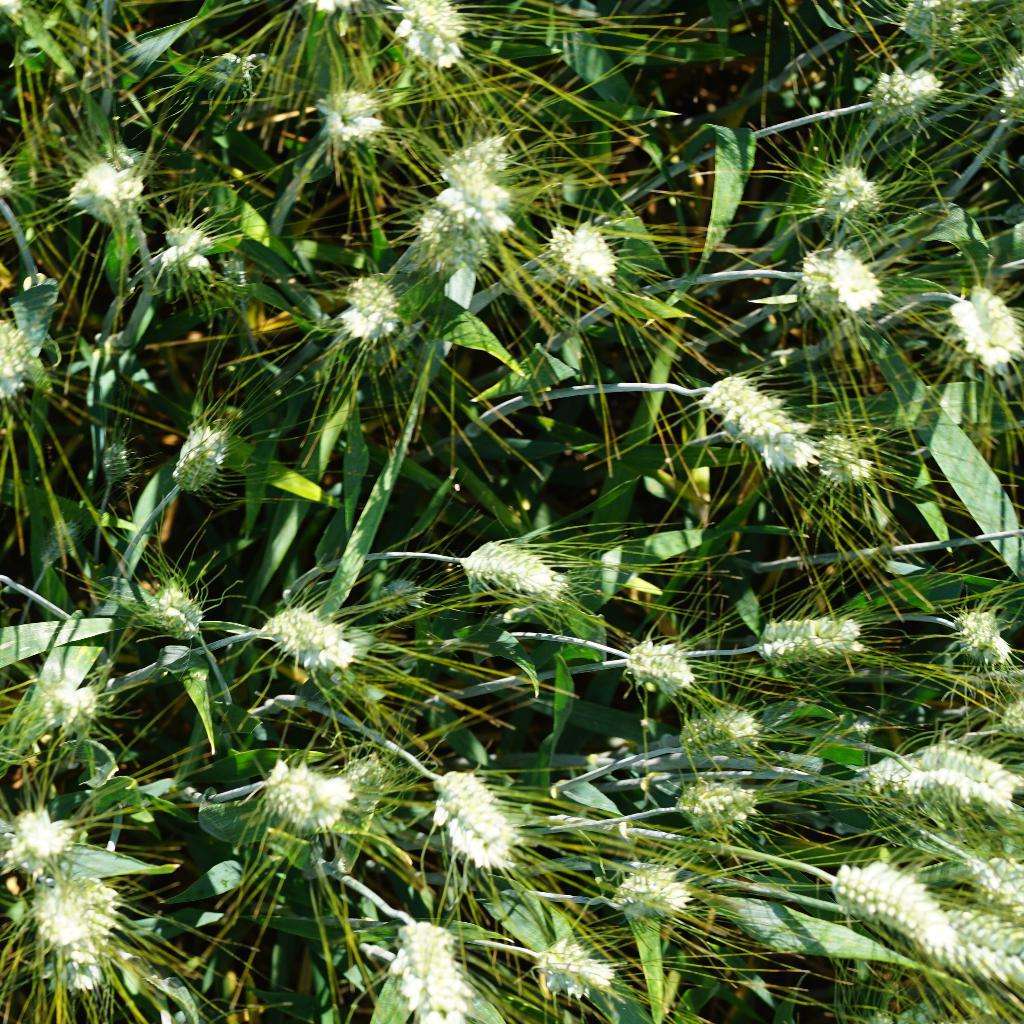0-0: (698, 354, 819, 482), (836, 859, 972, 970), (873, 720, 1021, 818), (38, 873, 130, 998), (430, 762, 529, 874), (387, 909, 478, 1024), (455, 529, 579, 610), (249, 752, 366, 834), (247, 597, 370, 671), (747, 606, 870, 677), (380, 0, 484, 82), (793, 236, 888, 322), (941, 273, 1023, 372), (126, 565, 216, 649), (421, 185, 520, 261), (949, 897, 1024, 996), (322, 745, 395, 846), (153, 210, 234, 298), (608, 856, 699, 926), (671, 776, 765, 843), (660, 710, 783, 761), (811, 413, 889, 493), (73, 149, 149, 230), (449, 124, 520, 210), (336, 272, 407, 357), (612, 635, 709, 695), (810, 159, 893, 228), (949, 602, 1021, 680), (542, 933, 616, 1005), (316, 78, 396, 142), (175, 418, 234, 504), (544, 217, 623, 281), (7, 803, 81, 867), (871, 67, 949, 127), (0, 311, 49, 403), (894, 1, 971, 57), (187, 47, 263, 103), (30, 677, 105, 731), (35, 514, 91, 572), (968, 845, 1024, 899), (86, 429, 139, 485)
